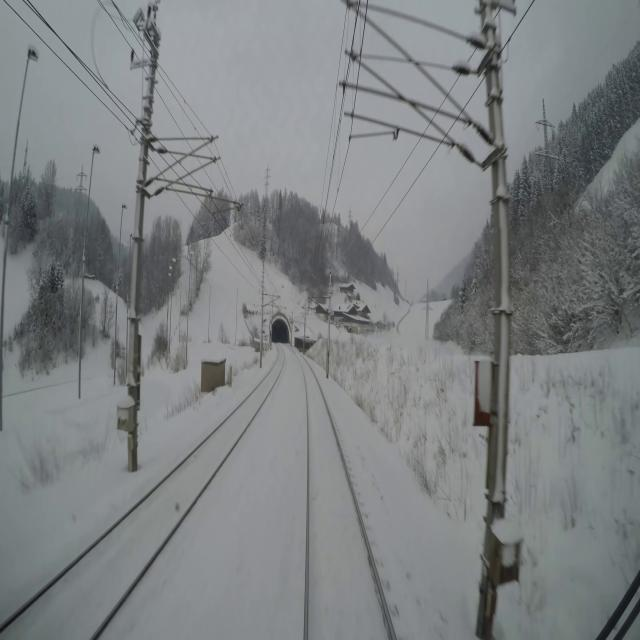rail-track: (0, 347, 283, 639), (300, 357, 391, 639)
